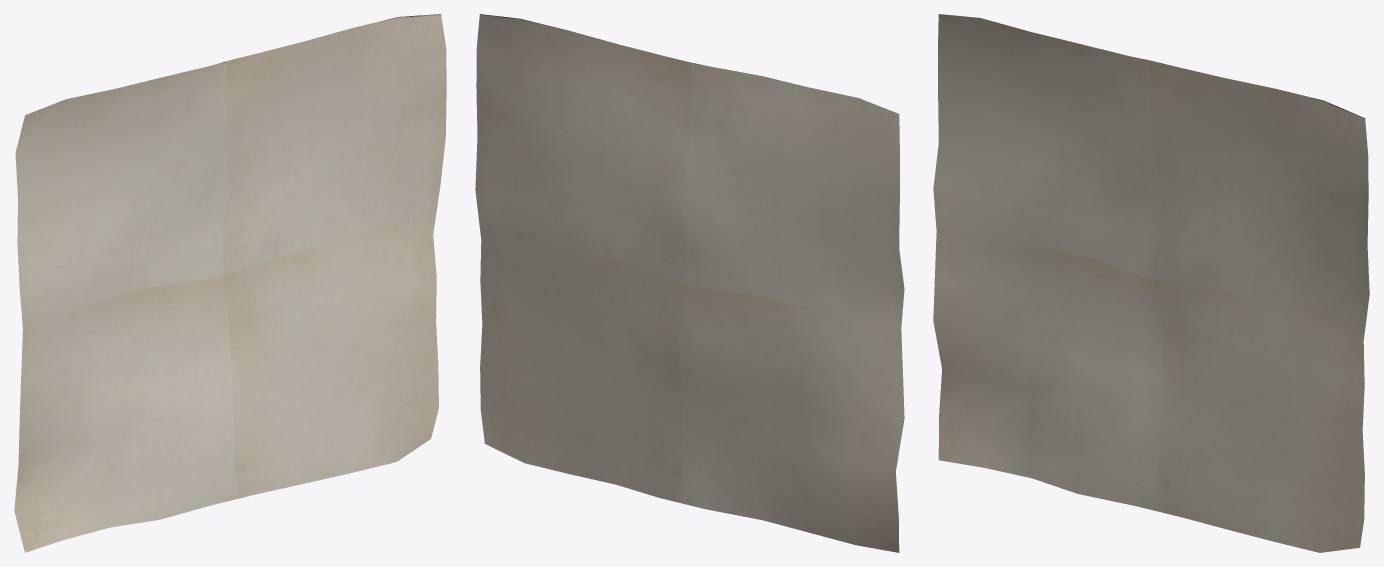
File: 23. Drawing Paper.obj
3 views of the same model, side by side, from view 1: azimuth 30°, elevation 25°; view 2: azimuth 150°, elevation 25°; view 3: azimuth 330°, elevation 25° (orthographic).
Parts seen in each view (by area): view 1: polygon0; view 2: polygon0; view 3: polygon0.
Part boxes in pixels (left/top/right/bottom): polygon0: left=14, top=14, right=446, bottom=552; polygon0: left=475, top=14, right=904, bottom=552; polygon0: left=933, top=14, right=1369, bottom=552.
Size of the model in its own units: 28.76 by 28.61 by 0.977.
1 material, 1 textured.
